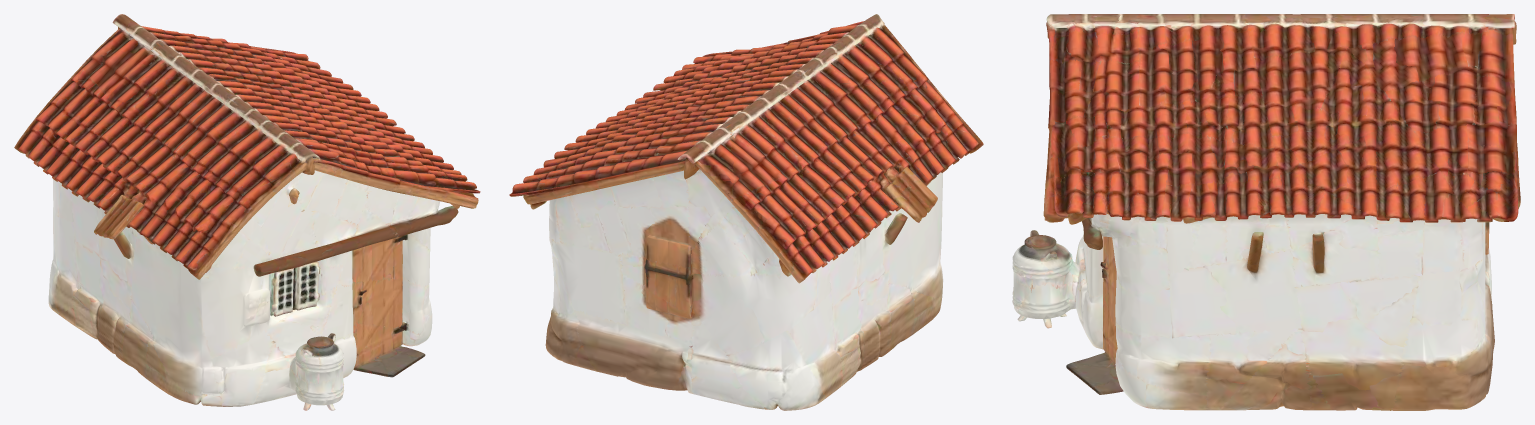
File: house-dairy-shed-opt.glb
3 renders of one model, left to right at view 1: azimuth 30°, elevation 25°; view 2: azimuth 150°, elevation 25°; view 3: azimuth 270°, elevation 25°, orthographic. The views are drawn at different scales.
Visible parts, largest first — view 1: Mesh_0.001; view 2: Mesh_0.001; view 3: Mesh_0.001.
Part boxes in pixels (<box>): Mesh_0.001: <box>14,14,480,410</box>; Mesh_0.001: <box>509,14,983,410</box>; Mesh_0.001: <box>1012,14,1520,410</box>.
Size of the model in its own units: 3.24 by 2.5 by 3.77.
1 material, 1 textured.
